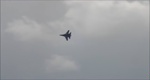maybay_muctieu: (59, 31, 75, 42)
